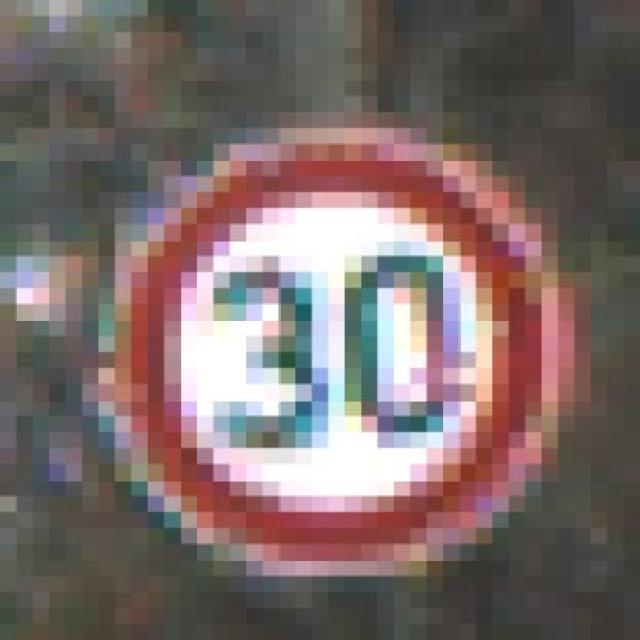Speed Limit 30 KMPh: (98, 128, 608, 592)
